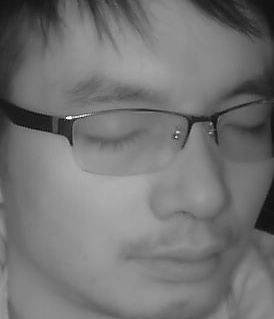blink: (83, 123, 142, 151), (224, 116, 270, 140)
glass: (69, 107, 188, 176), (214, 96, 274, 159)
mouth: (129, 236, 222, 290)
